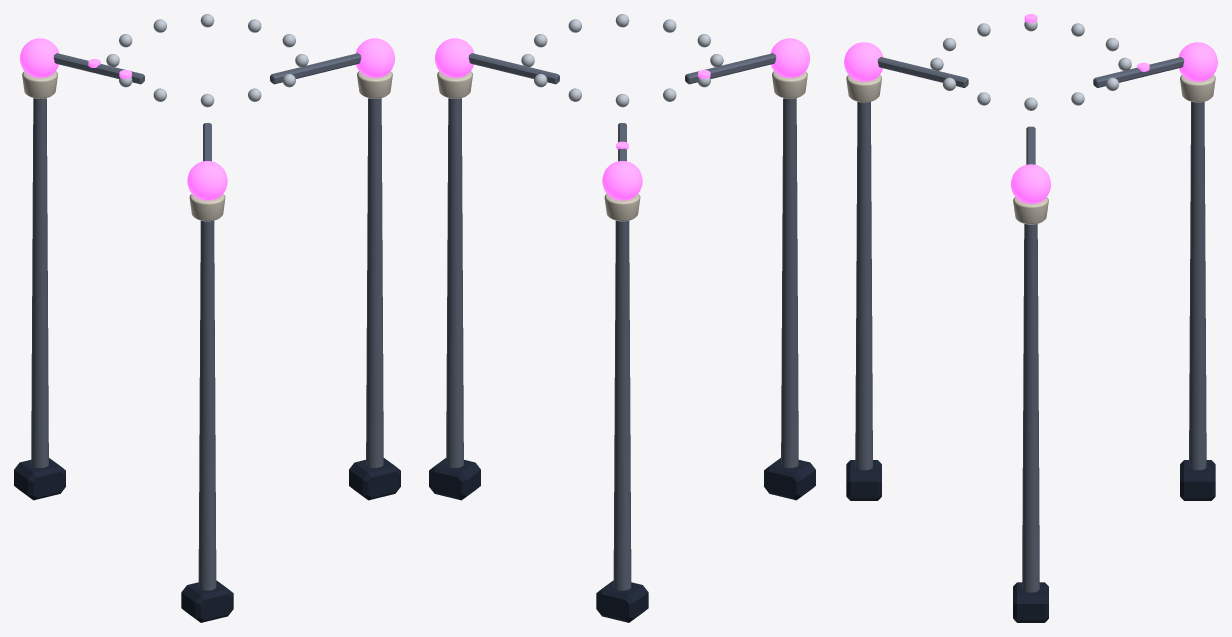
The model's file is tower_arc_range_s4.glb.
The picture shows the model from 3 angles, left to right: view 1: azimuth 30°, elevation 25°; view 2: azimuth 150°, elevation 25°; view 3: azimuth 270°, elevation 25°; orthographic projection.
Visible parts, largest first — view 1: arc_sat_strut2, arc_sat_strut1, arc_sat_strut0, arc_sat_foot2, arc_sat_foot1, arc_sat_foot0, arc_sat_electrode2, arc_sat_electrode0, arc_sat_electrode1, arc_guide_arm1, arc_guide_arm0, arc_sat_insulator2 (+2 smaller); view 2: arc_sat_strut0, arc_sat_strut1, arc_sat_strut2, arc_sat_foot0, arc_sat_foot1, arc_sat_foot2, arc_sat_electrode0, arc_sat_electrode1, arc_sat_electrode2, arc_guide_arm1, arc_guide_arm2, arc_sat_insulator0 (+2 smaller); view 3: arc_sat_strut0, arc_sat_strut1, arc_sat_strut2, arc_sat_electrode1, arc_sat_foot0, arc_sat_foot2, arc_sat_foot1, arc_sat_electrode0, arc_sat_electrode2, arc_guide_arm2, arc_guide_arm0, arc_sat_insulator0 (+2 smaller).
Part boxes in pixels (x1,y1,x2,y2): arc_sat_strut2: (198,220,216,590); arc_sat_strut1: (366,98,383,467); arc_sat_strut0: (31,98,48,467); arc_sat_foot2: (181,580,233,622); arc_sat_foot1: (349,458,400,500); arc_sat_foot0: (14,458,65,500); arc_sat_electrode2: (187,161,227,200); arc_sat_electrode0: (20,38,59,77); arc_sat_electrode1: (355,38,394,77); arc_guide_arm1: (270,53,361,84); arc_guide_arm0: (53,53,144,84); arc_sat_insulator2: (189,194,225,221); arc_sat_strut0: (613,220,631,590); arc_sat_strut1: (446,98,463,467); arc_sat_strut2: (781,98,798,467); arc_sat_foot0: (596,580,648,622); arc_sat_foot1: (429,458,480,500); arc_sat_foot2: (764,458,815,500); arc_sat_electrode0: (602,161,642,200); arc_sat_electrode1: (435,38,474,77); arc_sat_electrode2: (770,38,809,77); arc_guide_arm1: (468,53,559,84); arc_guide_arm2: (685,53,776,84); arc_sat_insulator0: (604,194,640,221); arc_sat_strut0: (1189,101,1206,470); arc_sat_strut1: (1022,224,1039,592); arc_sat_strut2: (855,101,872,470); arc_sat_electrode1: (1011,164,1050,203); arc_sat_foot0: (1180,460,1215,500); arc_sat_foot2: (846,460,881,500); arc_sat_foot1: (1013,582,1048,622); arc_sat_electrode0: (1178,42,1217,81); arc_sat_electrode2: (844,42,883,81); arc_guide_arm2: (877,57,968,87); arc_guide_arm0: (1093,57,1184,87); arc_sat_insulator0: (1180,75,1215,102).
Size of the model in its own units: 1.49 by 2.36 by 1.67.
